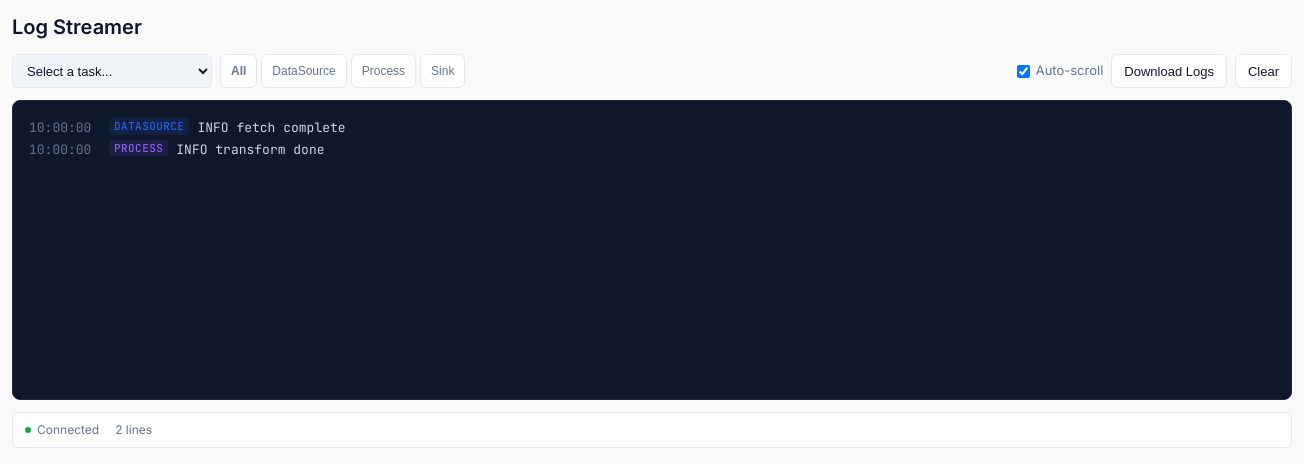
Scenario: LogStreamerPage — phase filter toggles › shows all lines when All toggle is clicked after filtering
Filter to datasource only
Click the button "DataSource". click: (304, 71)
box: [261,54,347,88]
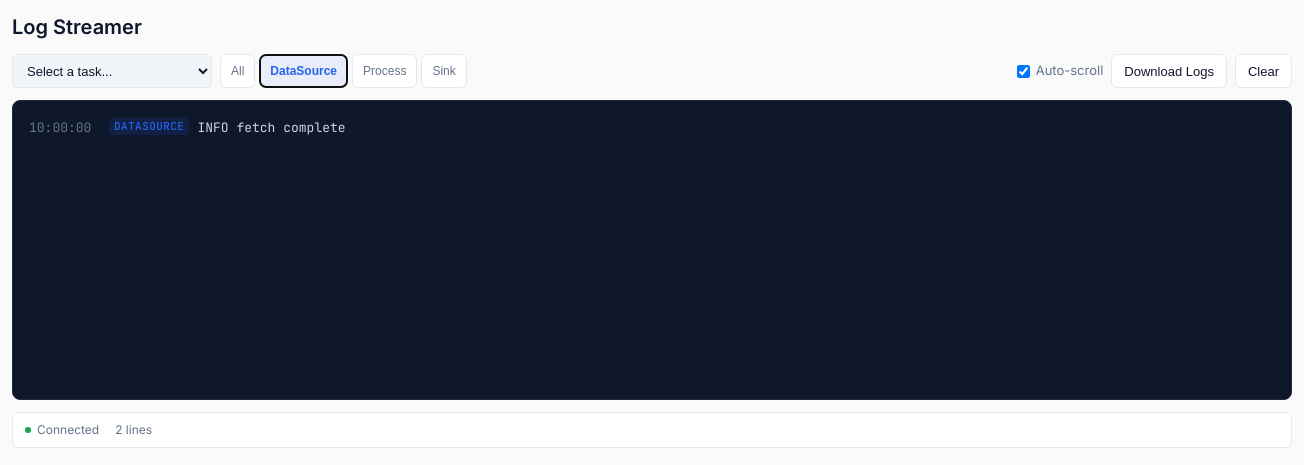
Now the text "transform done" is gone
Click All to restore
Click the button "All". click: (238, 71)
box: [220,54,255,88]
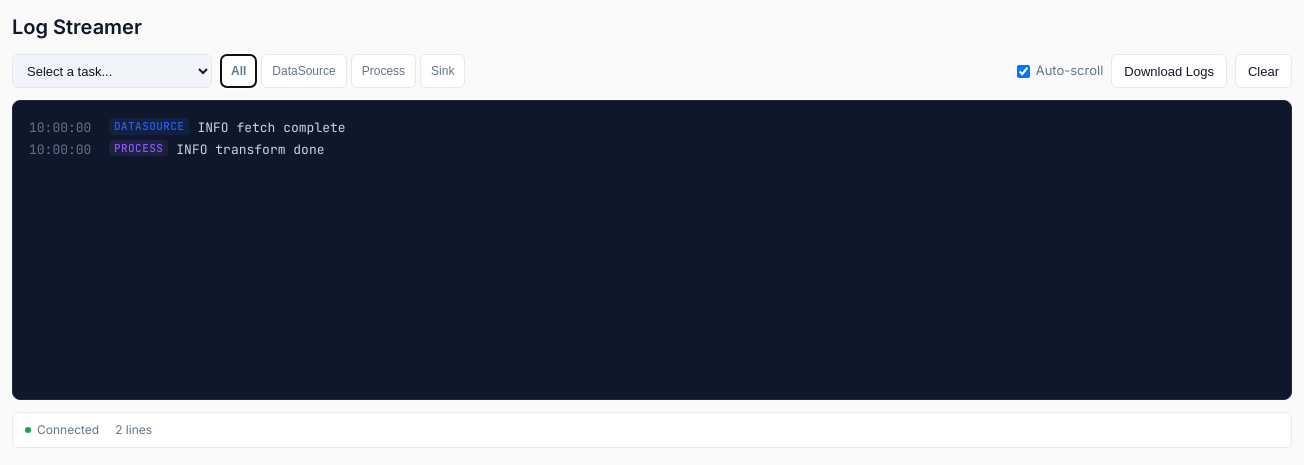
Now the text "INFO transform done" is shown, box [176,140,324,158]
